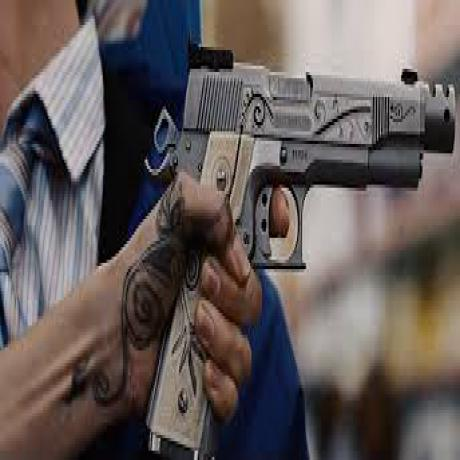Guns: (155, 30, 455, 456)
